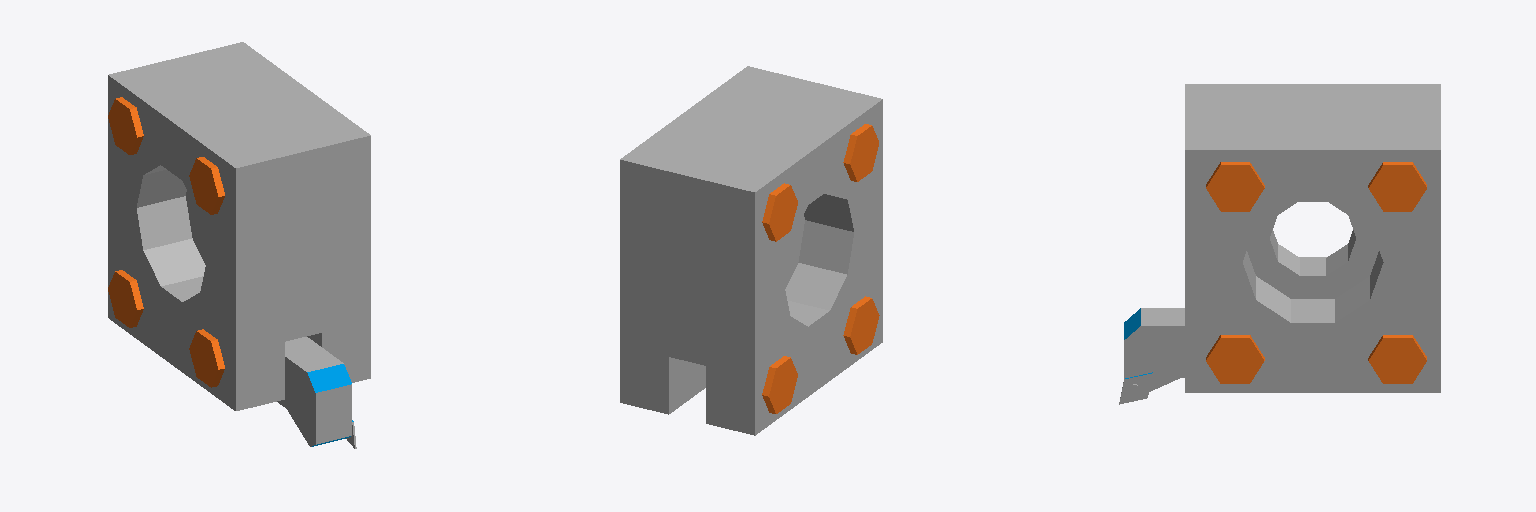
Rendered from knife_base.obj.
3 renders of one model, left to right at view 1: azimuth 30°, elevation 25°; view 2: azimuth 150°, elevation 25°; view 3: azimuth 270°, elevation 25°, orthographic.
Parts seen in each view (by area): view 1: Object.2, Object.3, Object.1, Object.14, Object.11, Object.8, Object.9, Object.10, Object.15; view 2: Object.2, Object.3, Object.1, Object.9, Object.8, Object.11, Object.10; view 3: Object.3, Object.2, Object.1, Object.14, Object.6, Object.7, Object.5, Object.4, Object.12.
Part boxes in pixels (left/top/right/bottom): Object.2: left=108, top=63, right=284, bottom=410; Object.3: left=195, top=42, right=370, bottom=382; Object.1: left=158, top=54, right=321, bottom=341; Object.14: left=287, top=349, right=351, bottom=446; Object.11: left=189, top=157, right=224, bottom=214; Object.8: left=189, top=329, right=224, bottom=387; Object.9: left=108, top=270, right=143, bottom=327; Object.10: left=108, top=97, right=143, bottom=154; Object.15: left=277, top=337, right=323, bottom=408; Object.2: left=706, top=87, right=882, bottom=435; Object.3: left=620, top=66, right=795, bottom=414; Object.1: left=669, top=78, right=832, bottom=365; Object.9: left=762, top=356, right=797, bottom=413; Object.8: left=843, top=296, right=879, bottom=354; Object.11: left=843, top=124, right=878, bottom=181; Object.10: left=762, top=183, right=797, bottom=241; Object.3: left=1185, top=126, right=1440, bottom=392; Object.2: left=1185, top=84, right=1440, bottom=257; Object.1: left=1185, top=108, right=1440, bottom=275; Object.14: left=1124, top=308, right=1180, bottom=391; Object.6: left=1368, top=162, right=1426, bottom=211; Object.7: left=1206, top=162, right=1264, bottom=211; Object.5: left=1368, top=335, right=1426, bottom=383; Object.4: left=1206, top=335, right=1264, bottom=383; Object.12: left=1119, top=372, right=1152, bottom=404.
Bounding box in the file's own units: 12.11 × 21.55 × 22.65.